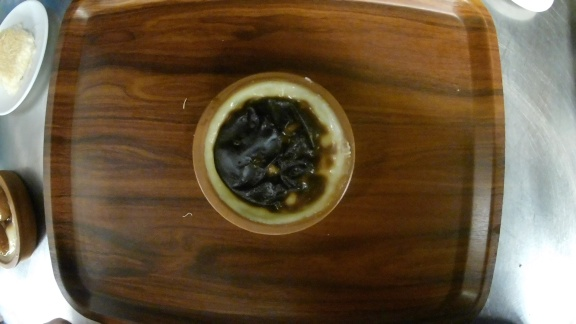sutlac: (193, 71, 358, 236)
